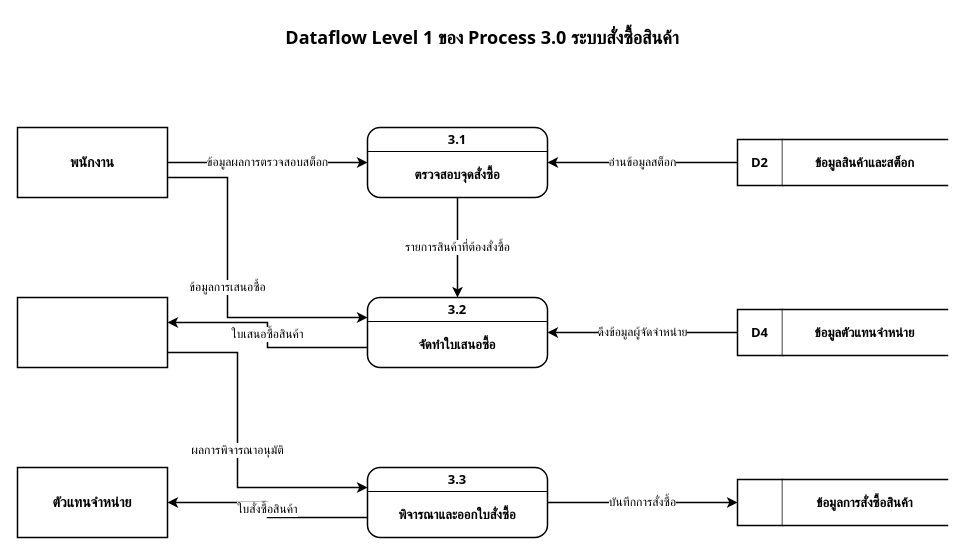
Some shapes in this 966 by 555 pixel diagram are drawn without their labels. Each missing label, with the box of its shape:
D5: (736, 478, 783, 526)
ผู้จัดการ/เจ้าของกิจการ: (16, 296, 168, 368)
